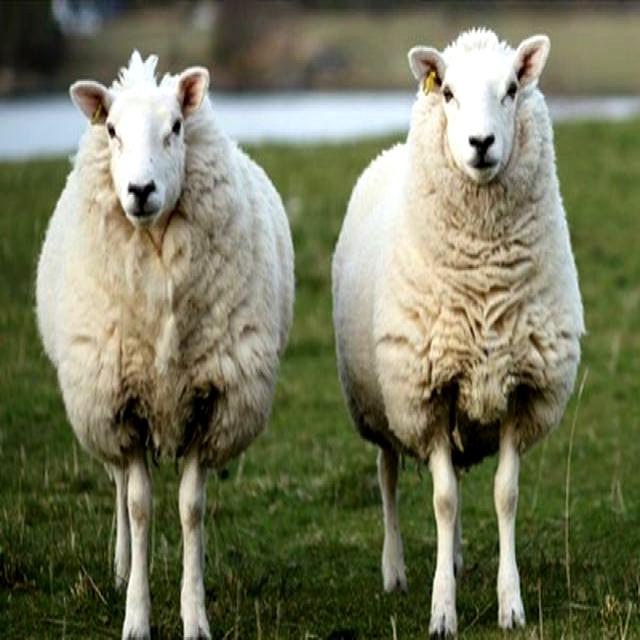sheep: (333, 30, 582, 638), (39, 67, 294, 638)
